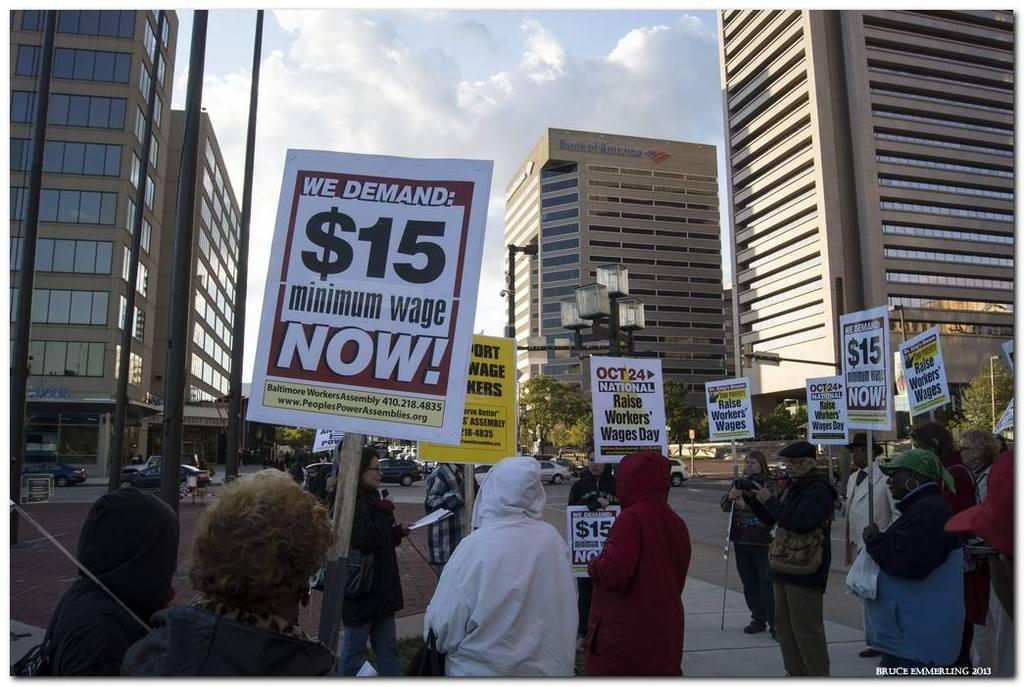Sem Máscara: (882, 471, 907, 497), (360, 457, 380, 485), (783, 458, 804, 478), (957, 438, 969, 461), (744, 456, 756, 470)
